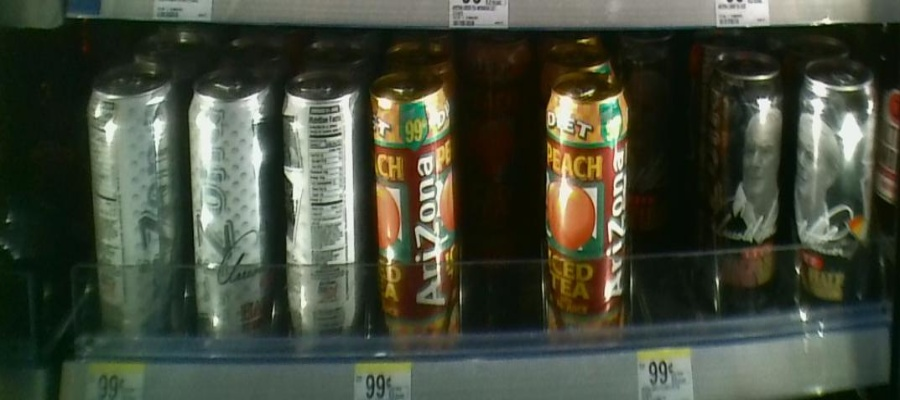bottle: (84, 55, 183, 343), (185, 66, 277, 348), (539, 78, 632, 345), (372, 75, 460, 355), (793, 36, 879, 321), (280, 60, 363, 343), (711, 43, 783, 317)
